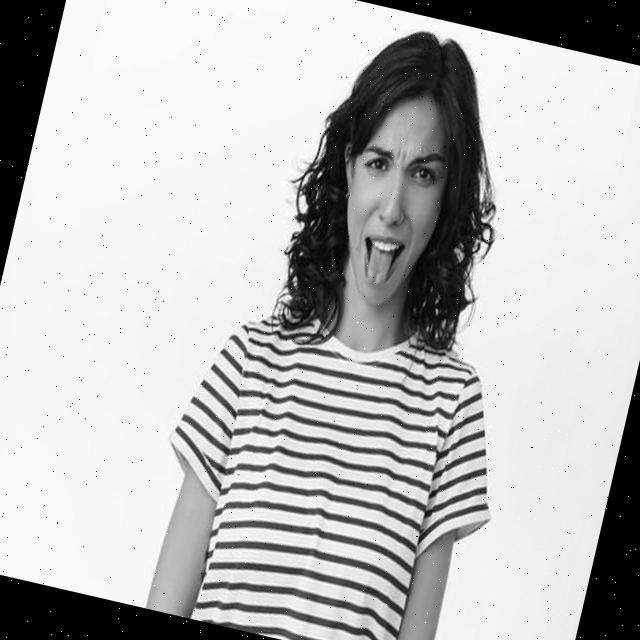Disgust: (323, 79, 466, 318)
